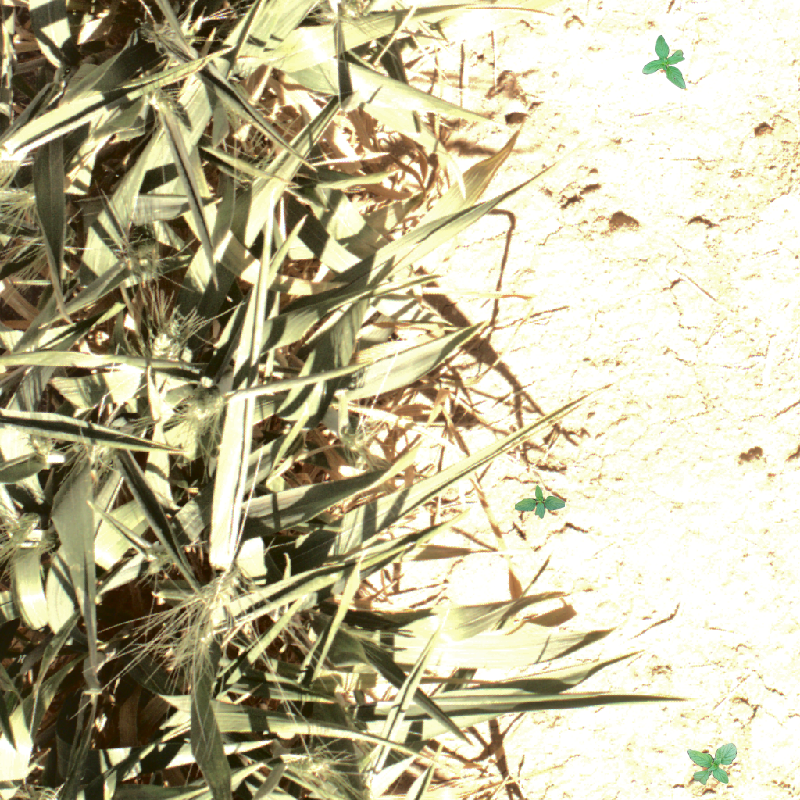spikelet: (165, 567, 243, 669), (114, 238, 169, 287), (174, 395, 229, 435), (301, 743, 343, 783)
weed: (642, 35, 686, 89), (687, 743, 737, 785), (515, 485, 565, 519)
